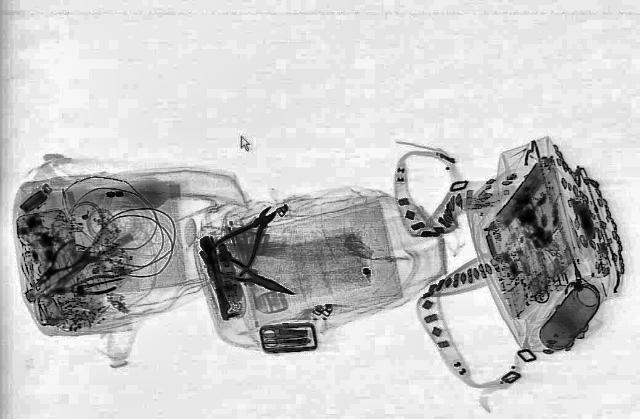Pliers: (197, 199, 296, 275), (208, 255, 304, 302), (18, 237, 96, 291), (43, 272, 119, 302)
Wrench: (32, 252, 100, 304)
